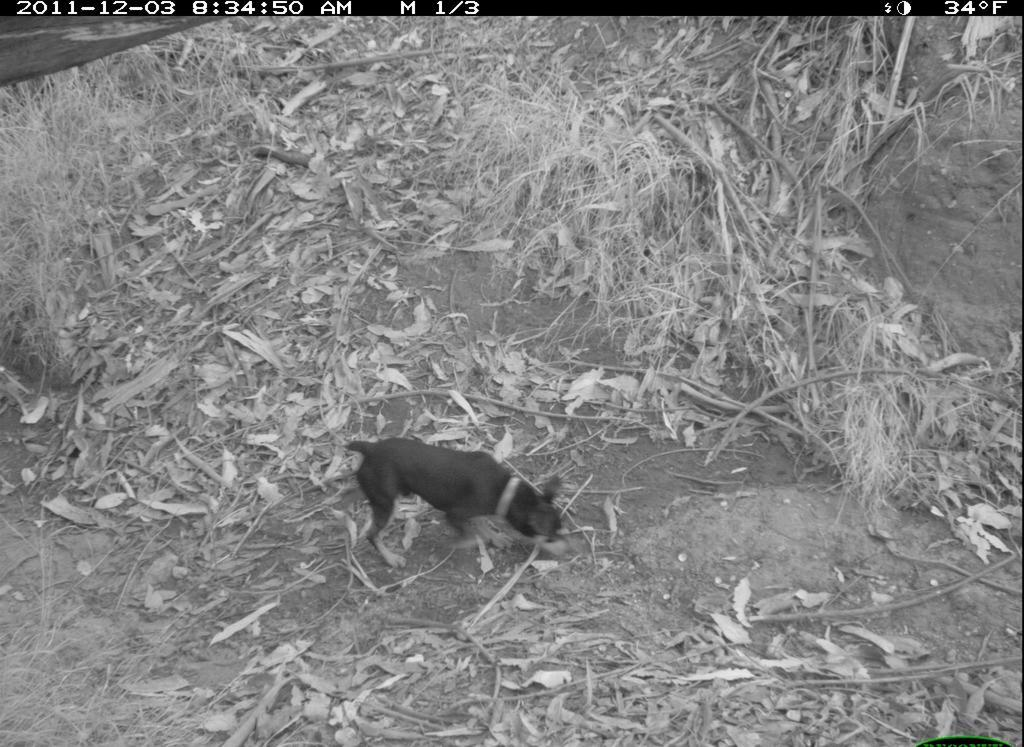dog: (336, 413, 573, 579)
